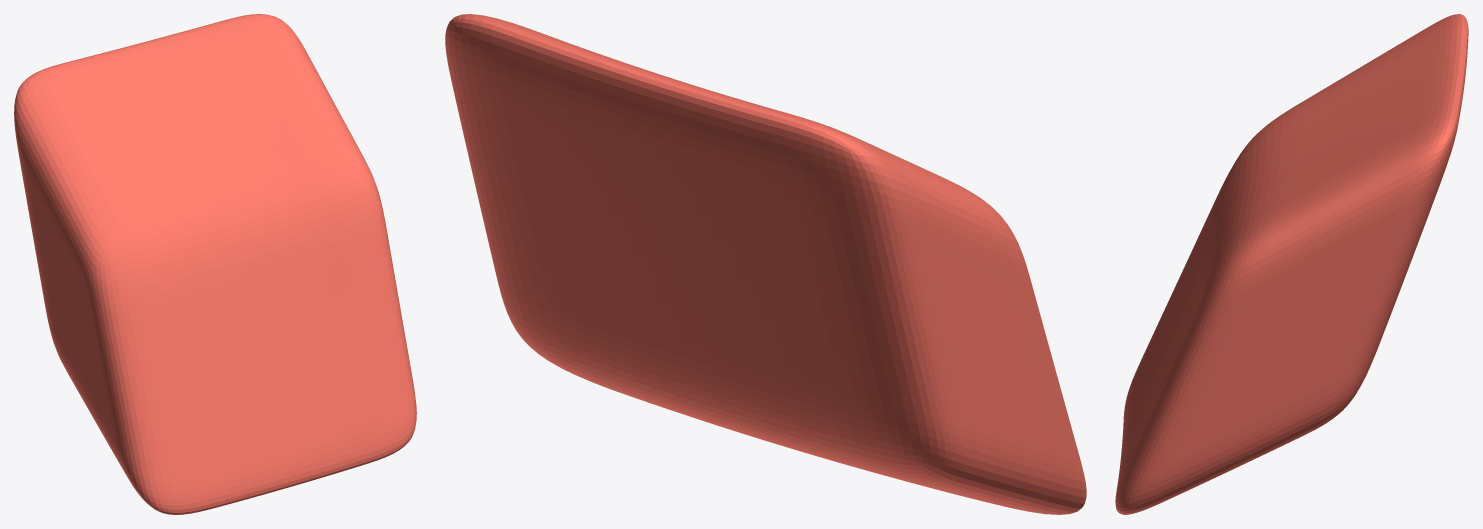
3 views of the same model, side by side, from view 1: azimuth 30°, elevation 25°; view 2: azimuth 150°, elevation 25°; view 3: azimuth 270°, elevation 25° (orthographic). The views are drawn at different scales.
Parts seen in each view (by area): view 1: waves_1.059; view 2: waves_1.059; view 3: waves_1.059.
Boxes of the visible parts, x1=… form: waves_1.059: x1=14, y1=14, x2=416, y2=514; waves_1.059: x1=445, y1=14, x2=1086, y2=514; waves_1.059: x1=1115, y1=14, x2=1468, y2=514.
Bounding box in the file's own units: 30.13 × 35.56 × 27.95.
